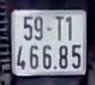1: (65, 13, 76, 41)
4: (14, 44, 27, 71)
5: (21, 13, 34, 42), (70, 43, 83, 70)
7: (28, 43, 40, 70), (42, 43, 52, 70)
8: (58, 45, 68, 70)
9: (33, 15, 45, 42)
T: (53, 15, 64, 42)
